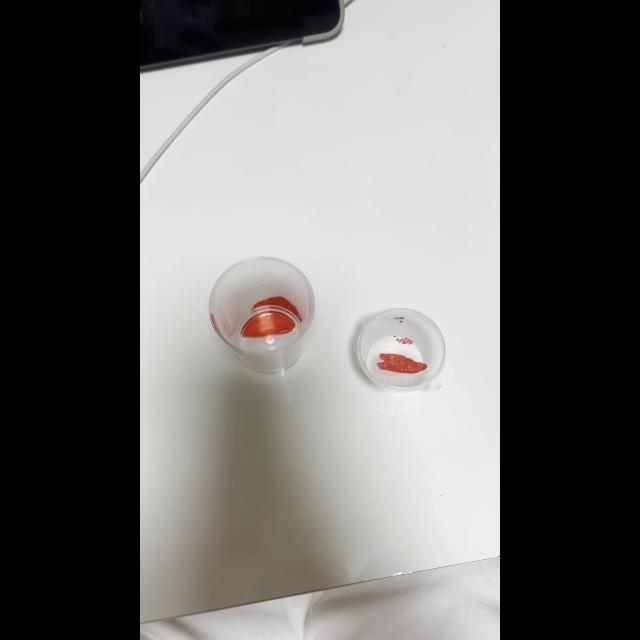dirty: (209, 258, 315, 372), (356, 308, 446, 392)
